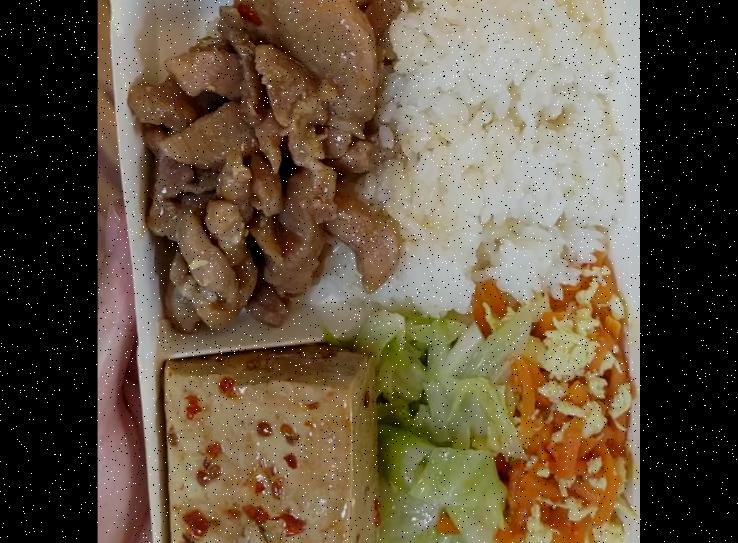box: (107, 0, 621, 543)
sauteed pork: (127, 0, 401, 333)
side dish: (153, 346, 388, 543), (499, 268, 631, 543), (374, 315, 513, 543)
white rice: (376, 0, 613, 311)
